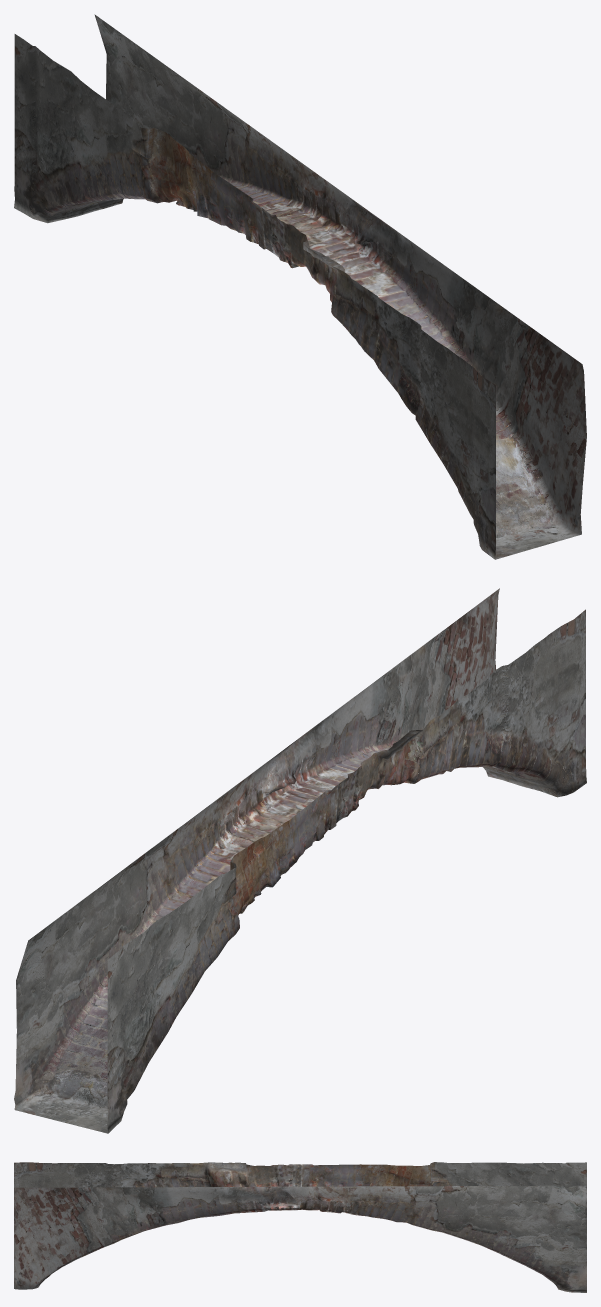
The model's file is SM_CryptArch_01_05.fbx.
The picture shows the model from 3 angles, top to bottom: view 1: azimuth 30°, elevation 25°; view 2: azimuth 150°, elevation 25°; view 3: azimuth 270°, elevation 25°; orthographic projection. The views are drawn at different scales.
Parts seen in each view (by area): view 1: sm_CryptArch_01_05_LOD0; view 2: sm_CryptArch_01_05_LOD0; view 3: sm_CryptArch_01_05_LOD0.
Part boxes in pixels (x1,y1,x2,y2): sm_CryptArch_01_05_LOD0: (14, 14, 586, 559); sm_CryptArch_01_05_LOD0: (14, 588, 586, 1133); sm_CryptArch_01_05_LOD0: (14, 1162, 586, 1292).
Bounding box in the file's own units: 720 × 82.6 × 144.
